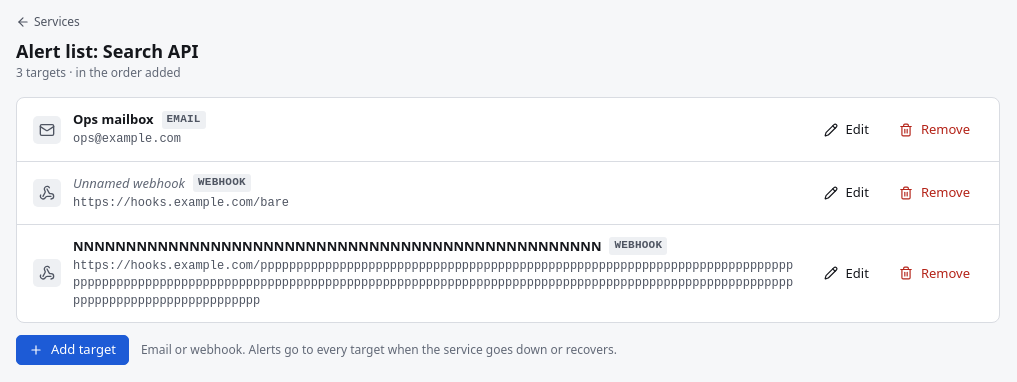
Test case: removing a target › closes the first question when a second row asks
Expected: the list named "Notification targets" is shown, [16,97,1000,323]
Click the button with aria-label "Remove Ops mailbox" at (934, 130), box [886,114,983,144]
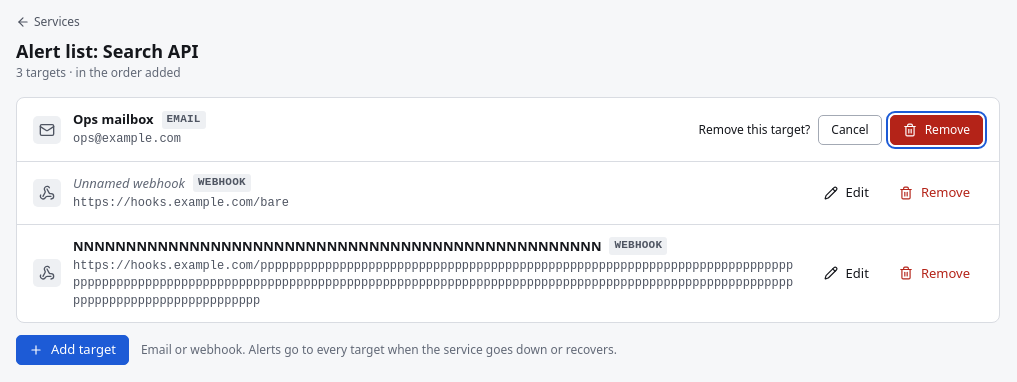
Click the button "Remove" in the row of "Unnamed webhook" at (934, 193), box [886,178,983,208]
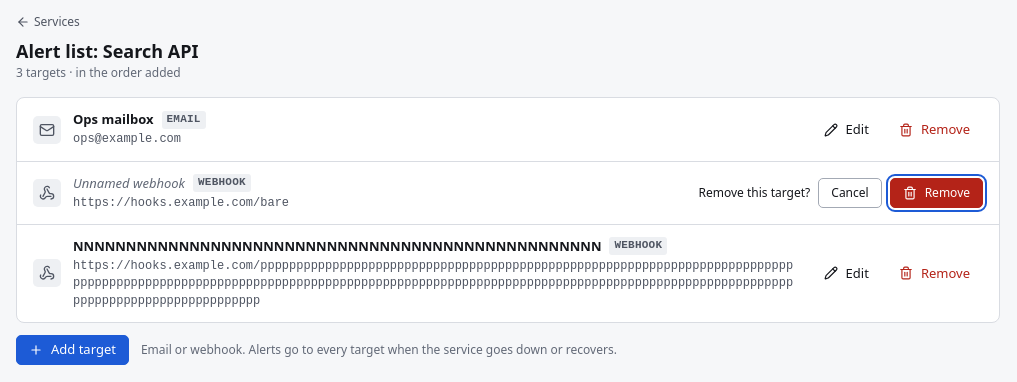
Result: the number of elements named "Confirm removal" is 1 at [698,178,983,208]
Result: the button with aria-label "Remove Ops mailbox" is shown at [886,114,983,144]
